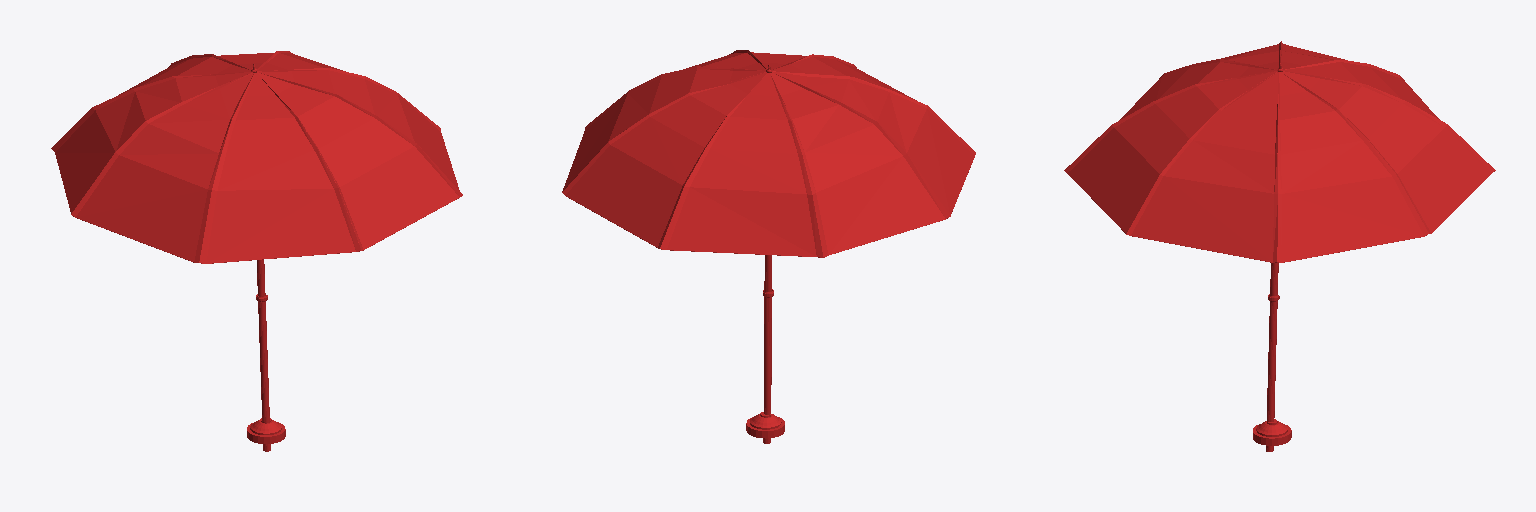
The model's file is umbrella.obj.
3 renders of one model, left to right at view 1: azimuth 30°, elevation 25°; view 2: azimuth 150°, elevation 25°; view 3: azimuth 270°, elevation 25°, orthographic.
Parts seen in each view (by area): view 1: pCylinder23, polySurface11 pCylinder4, pCylinder44; view 2: pCylinder23, polySurface11 pCylinder4, pCylinder44; view 3: pCylinder23, polySurface11 pCylinder4, pCylinder44.
Boxes of the visible parts, <box> form: pCylinder23: <box>51,51,462,263</box>; polySurface11 pCylinder4: <box>257,260,270,451</box>; pCylinder44: <box>247,418,285,443</box>; pCylinder23: <box>562,50,975,257</box>; polySurface11 pCylinder4: <box>763,255,771,443</box>; pCylinder44: <box>746,412,784,438</box>; pCylinder23: <box>1064,41,1495,262</box>; polySurface11 pCylinder4: <box>1266,263,1278,451</box>; pCylinder44: <box>1253,419,1291,445</box>.
Bounding box in the file's own units: 21.74 × 21.67 × 22.07.